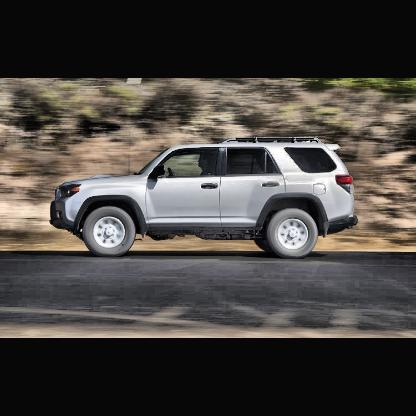Toyota 4Runner SUV 2012: (52, 137, 360, 262)
